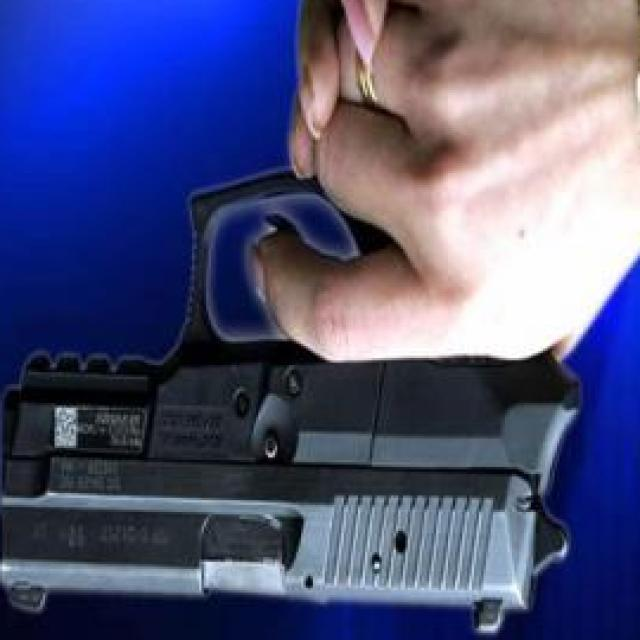pistol: (0, 164, 598, 631)
